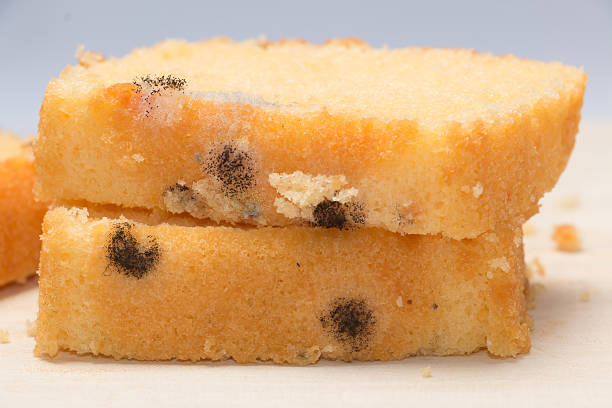mold_bread: (318, 288, 383, 364), (130, 65, 196, 127), (101, 218, 163, 283), (205, 138, 265, 197), (300, 189, 369, 235), (163, 176, 199, 209), (388, 205, 417, 237)
